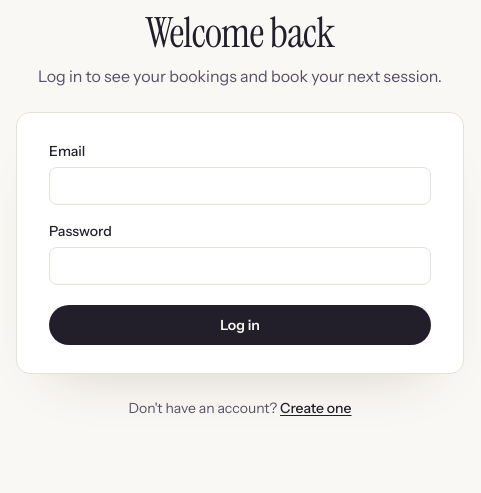
Test: Login › shows the API error message when login fails
Type "riley@example.com" into the field labelled "Email".
click(240, 186); type("riley@example.com")  # box [49,167,431,205]
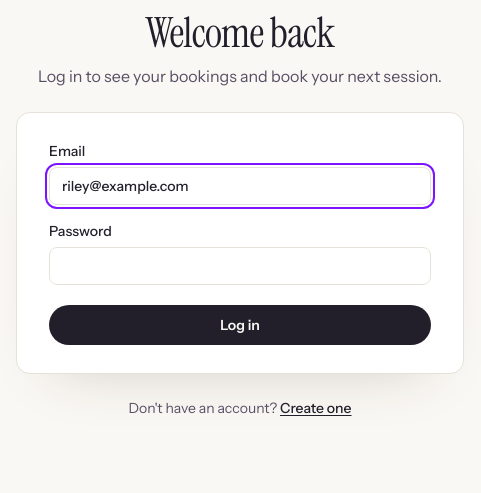
Type "wrong-password" into the password field labelled "Password".
click(240, 266); type("wrong-password")  # box [49,247,431,285]
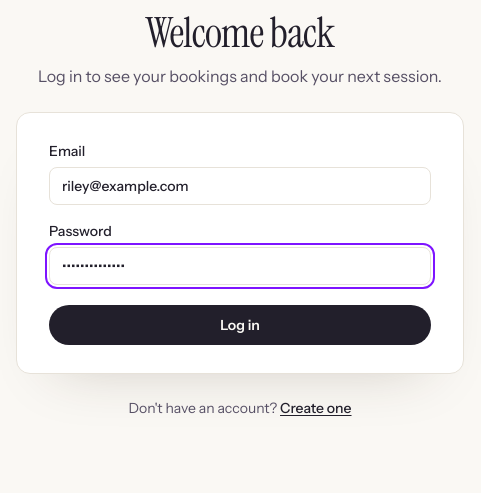
Click the button "Log in".
click(240, 325)  # box [49,305,431,345]
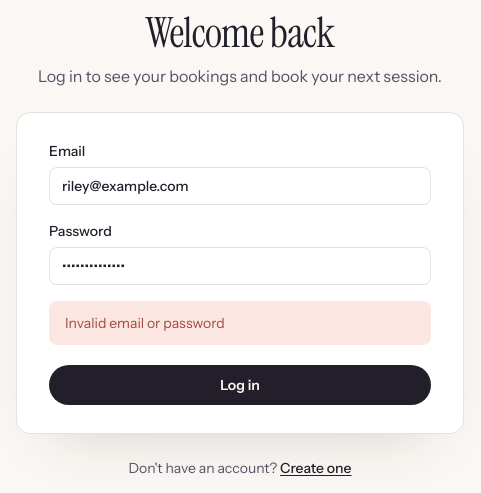
Now the text "Invalid email or password" is shown, box [49,301,431,345]
